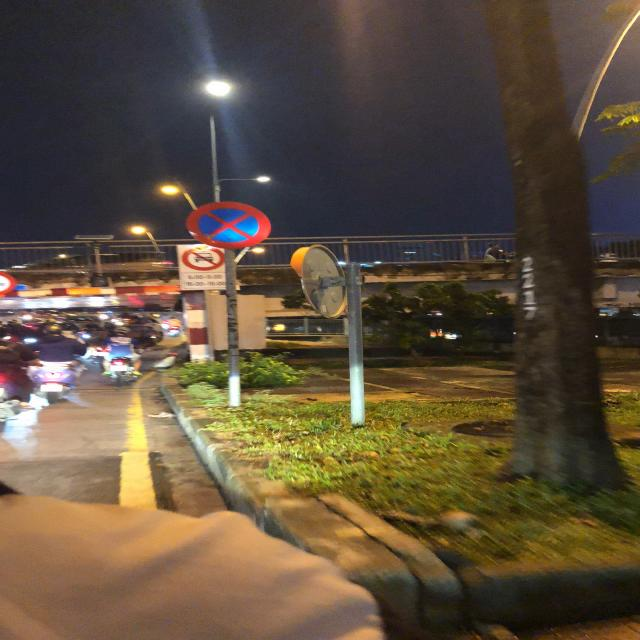Bien bao cam dung xe va do xe: (183, 202, 270, 248)
Bien bao cam xe oto: (179, 244, 228, 274)
